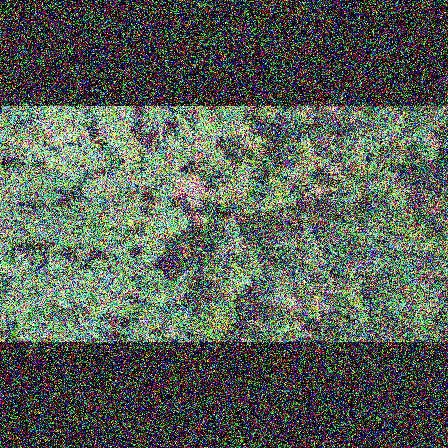Dead: (315, 225, 347, 247)
